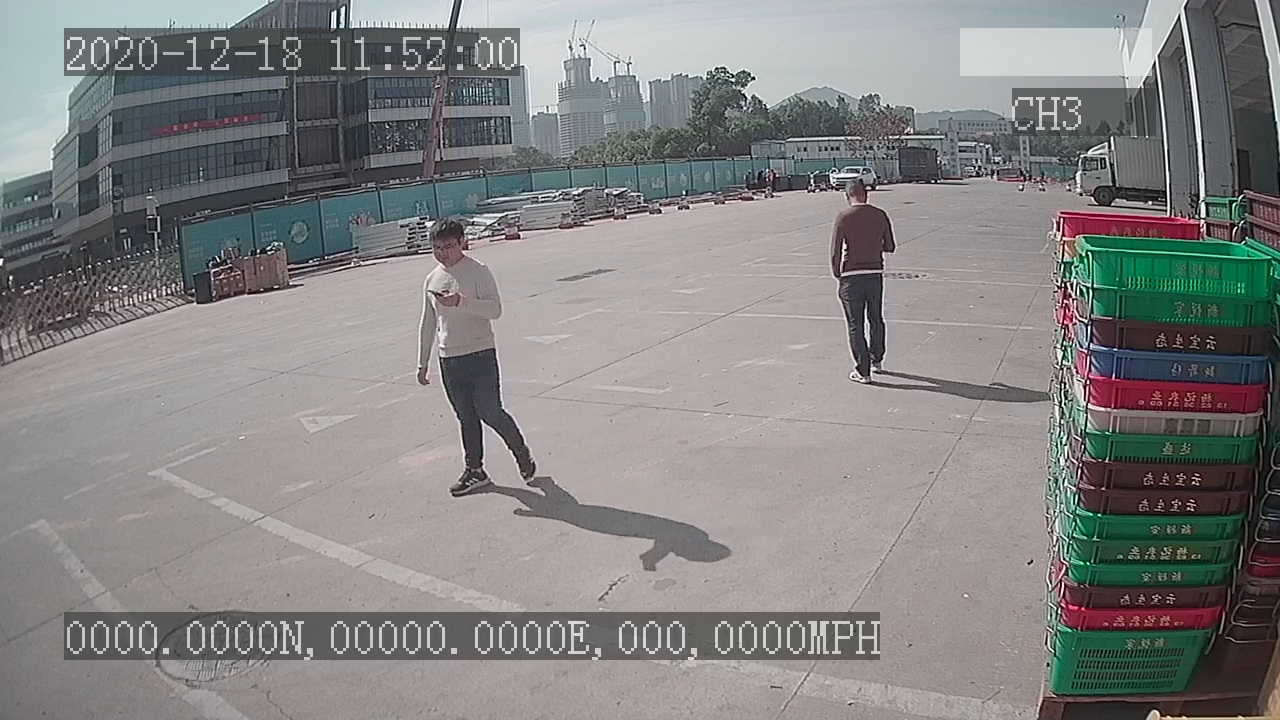person: (402, 213, 543, 506), (820, 170, 902, 394)
